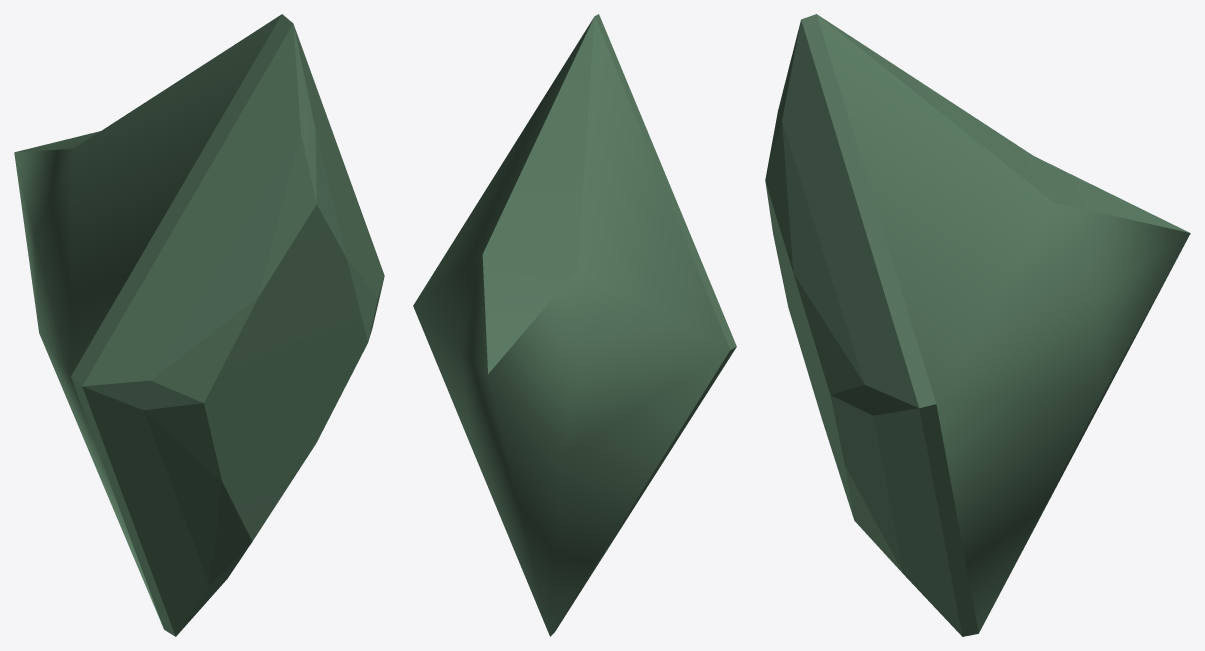
Rendered from BR1_8shapes_Kite_Classic_Stone.001 2.glb.
3 views of the same model, side by side, from view 1: azimuth 30°, elevation 25°; view 2: azimuth 150°, elevation 25°; view 3: azimuth 270°, elevation 25° (orthographic). The views are drawn at different scales.
Parts seen in each view (by area): view 1: BR1_8shapes_Kite_Classic_Stone.001; view 2: BR1_8shapes_Kite_Classic_Stone.001; view 3: BR1_8shapes_Kite_Classic_Stone.001.
Part boxes in pixels (box(x1,y1,x2,y2)): BR1_8shapes_Kite_Classic_Stone.001: box(14, 14, 384, 636); BR1_8shapes_Kite_Classic_Stone.001: box(413, 14, 736, 636); BR1_8shapes_Kite_Classic_Stone.001: box(765, 14, 1190, 636).
Size of the model in its own units: 0.2789 by 0.5217 by 0.3161.
